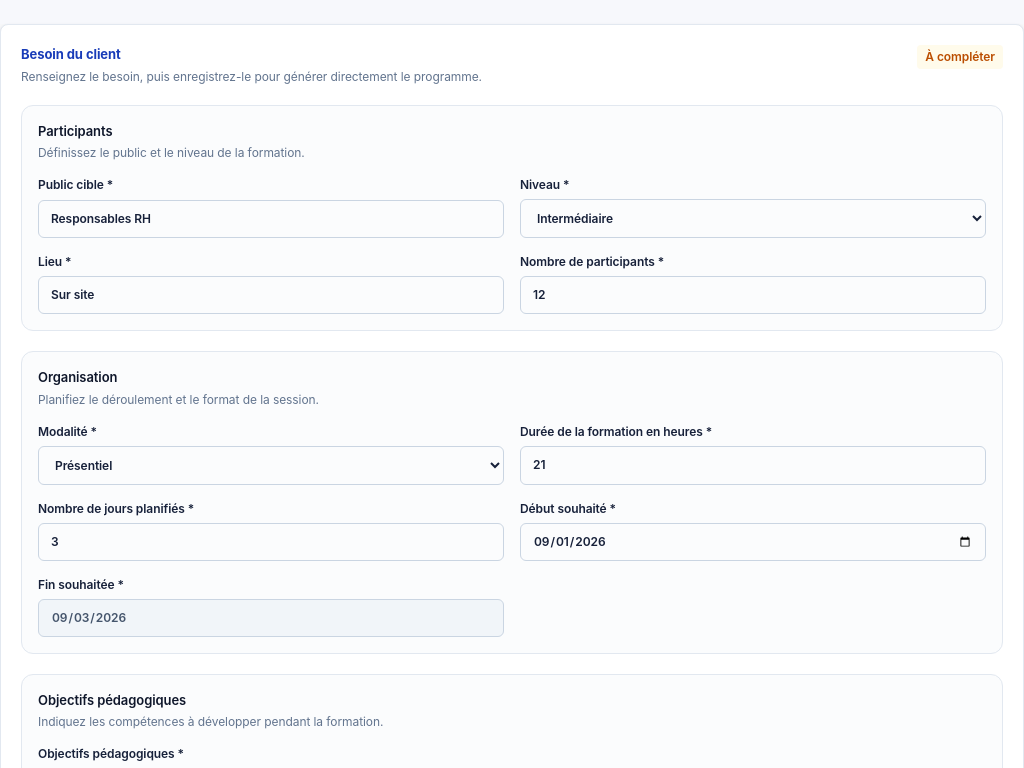
Test: Besoin du client › recalcule la fin quand le début ou le nombre de jours change
The image size is (1024, 768).
Clear the date field labelled "Début souhaité": (753, 542) [520,522,986,560]
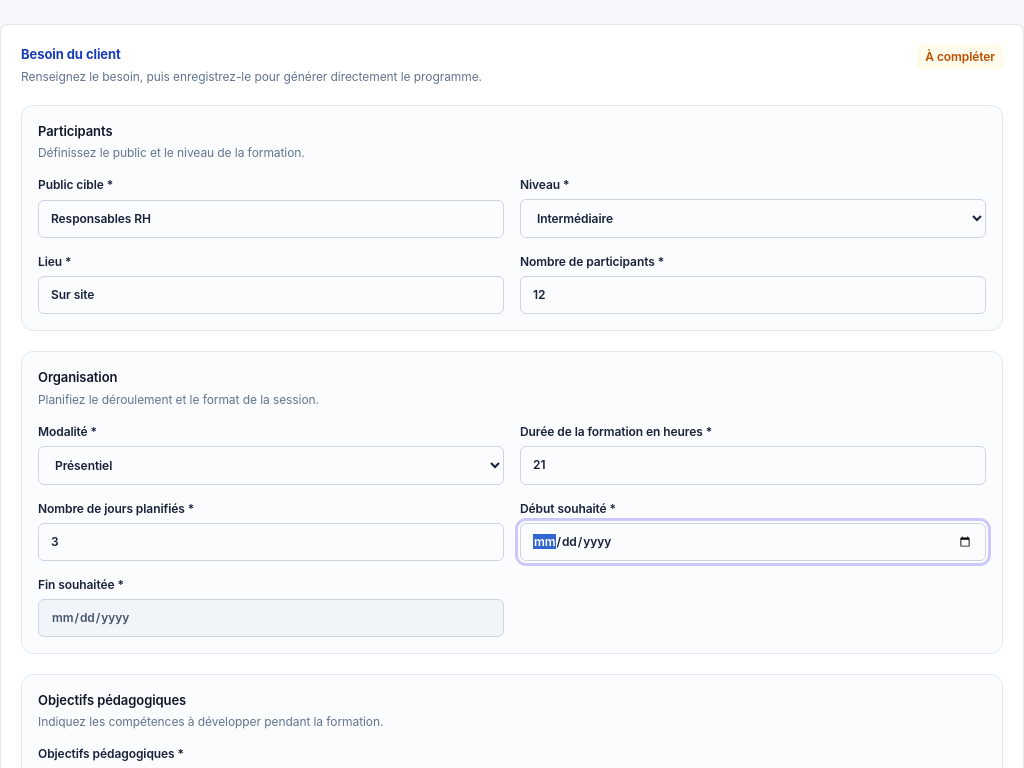
expect the date field labelled "Fin souhaitée" is empty: met, box [38,598,504,636]
In the date field labelled "Début souhaité": (753, 542) [520,522,986,560], type "2026-09-23"
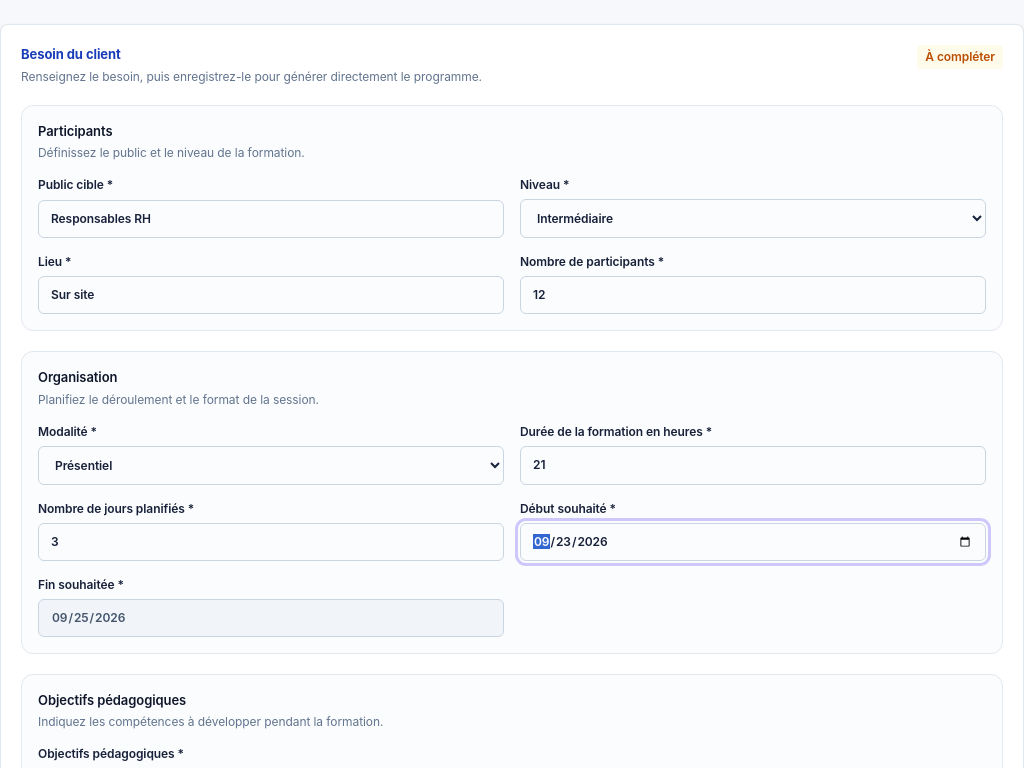
expect the date field labelled "Fin souhaitée" holds "2026-09-25": met, box [38,598,504,636]
Clear the number field labelled "Nombre de jours planifiés": (271, 542) [38,522,504,560]
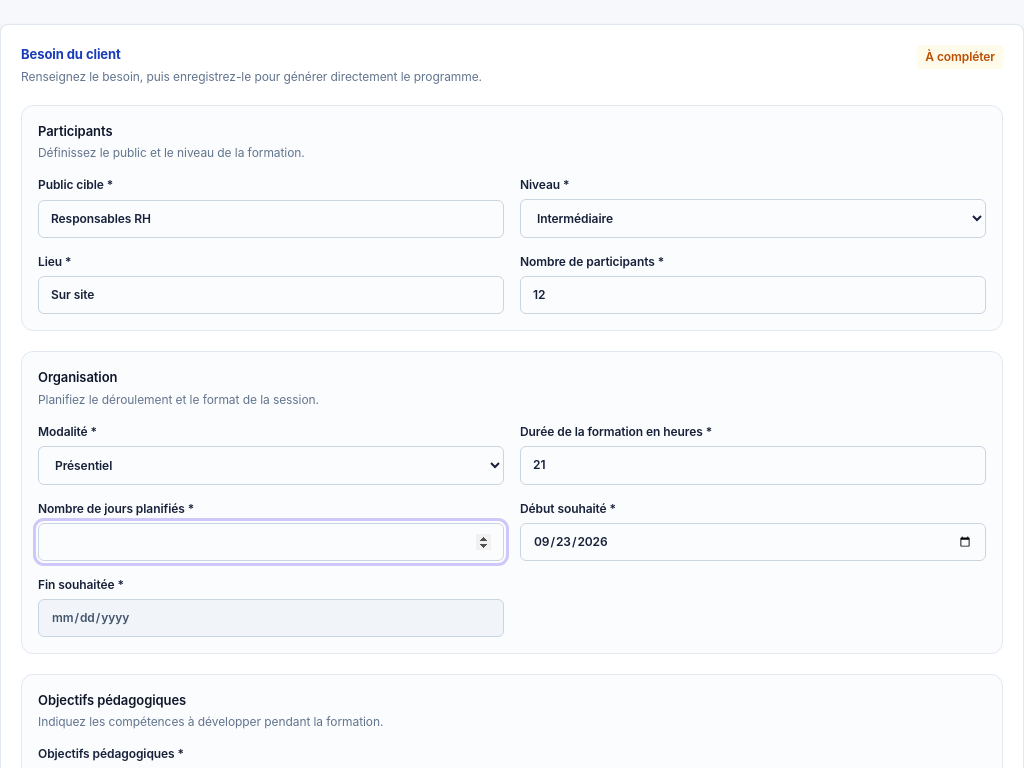
expect the date field labelled "Fin souhaitée" is empty: met, box [38,598,504,636]
In the number field labelled "Nombre de jours planifiés": (271, 542) [38,522,504,560], type "1"
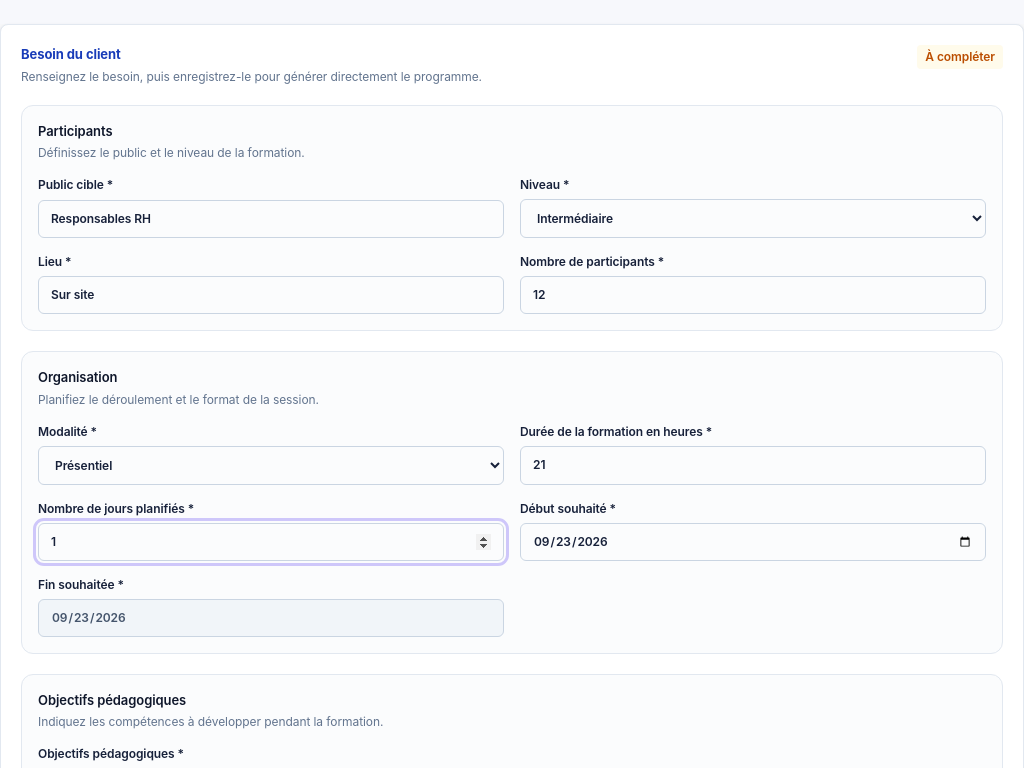
expect the date field labelled "Fin souhaitée" holds "2026-09-23": met, box [38,598,504,636]
Replace the text in the number field labelled "Nombre de jours planifiés" with "3": (271, 542) [38,522,504,560]
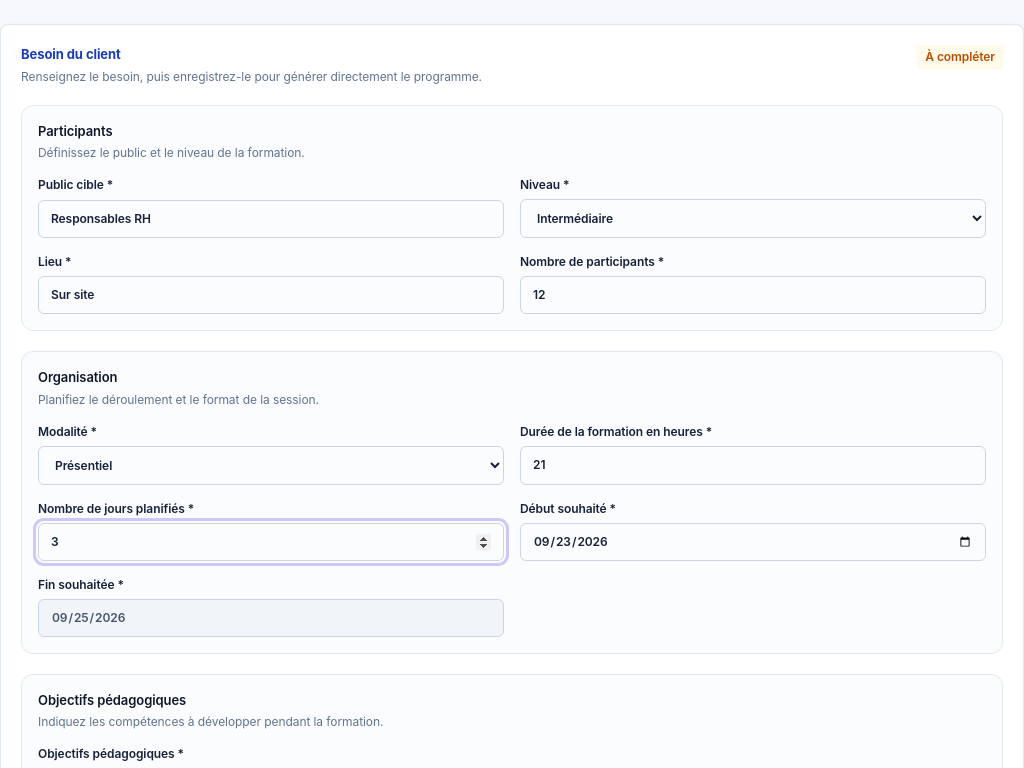
expect the date field labelled "Fin souhaitée" holds "2026-09-25": met, box [38,598,504,636]
